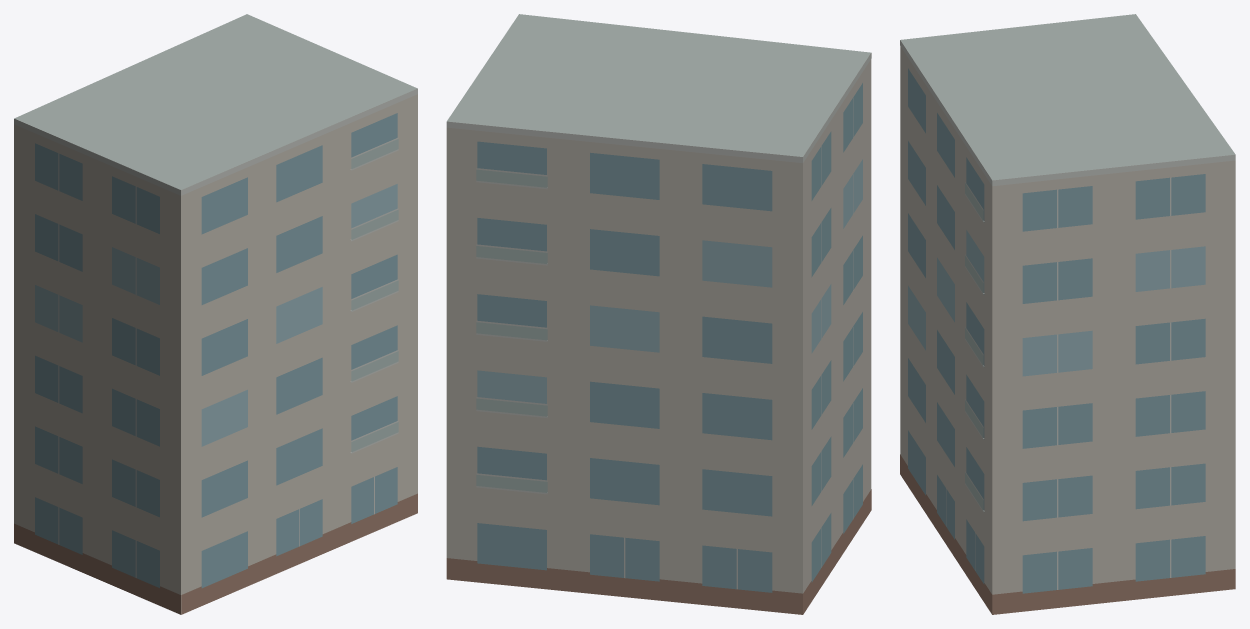
Rendered from survey-upis-32848411.glb.
3 views of the same model, side by side, from view 1: azimuth 30°, elevation 25°; view 2: azimuth 150°, elevation 25°; view 3: azimuth 270°, elevation 25° (orthographic). The views are drawn at different scales.
Visible parts, largest first — view 1: survey-upis-32848411.tmp; view 2: survey-upis-32848411.tmp; view 3: survey-upis-32848411.tmp.
Boxes of the visible parts, bbox=[...] form: survey-upis-32848411.tmp: bbox=[14, 14, 417, 614]; survey-upis-32848411.tmp: bbox=[446, 14, 871, 614]; survey-upis-32848411.tmp: bbox=[900, 14, 1235, 614].
Bounding box in the file's own units: 15.05 × 18.3 × 12.82.
